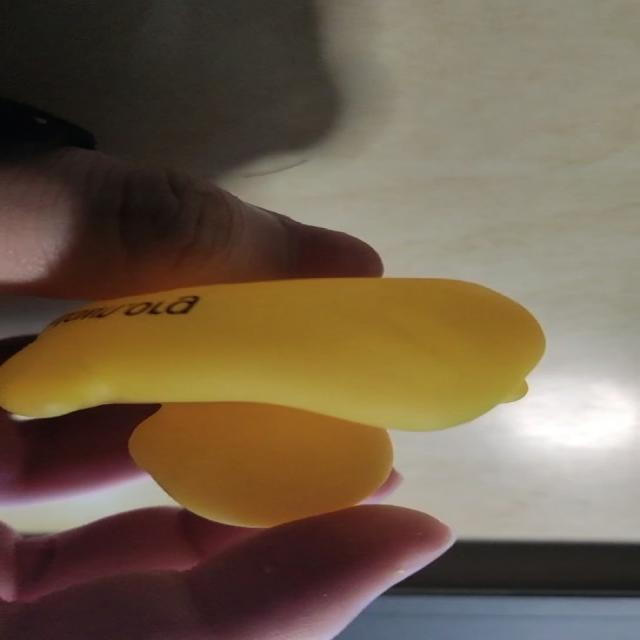rubber-duck: (0, 277, 543, 525)
